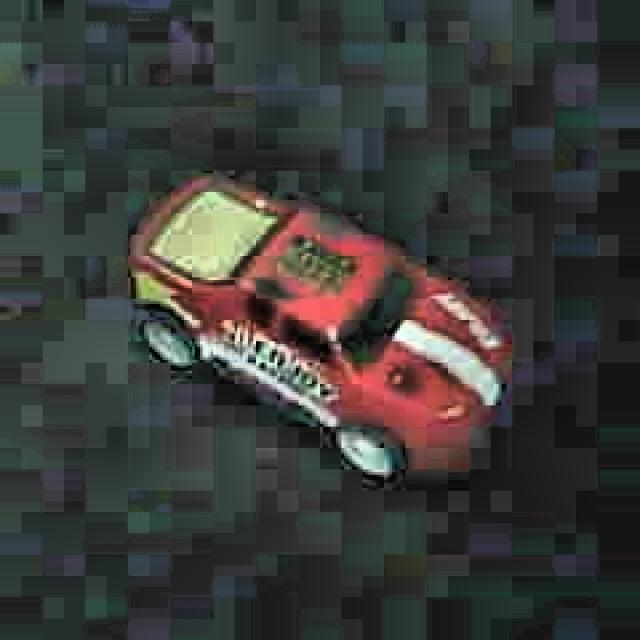car: (123, 167, 514, 487)
